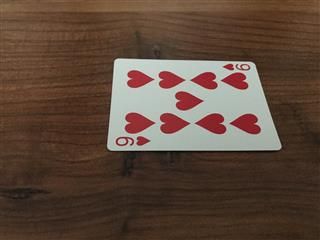NineOfHearts: (105, 57, 282, 151)
